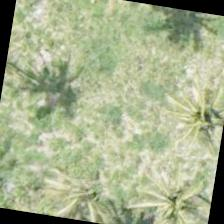Kelapa_Sawit: (151, 64, 223, 164), (34, 152, 134, 223), (124, 151, 218, 223)
